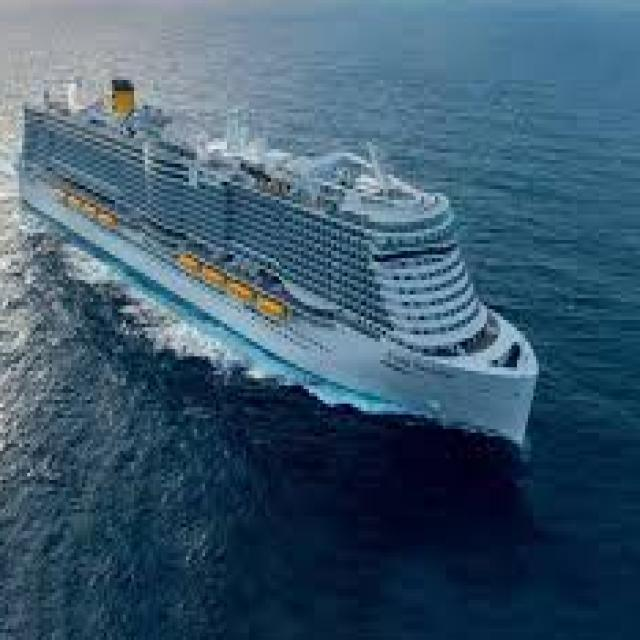passenger ship: (9, 66, 537, 448)
